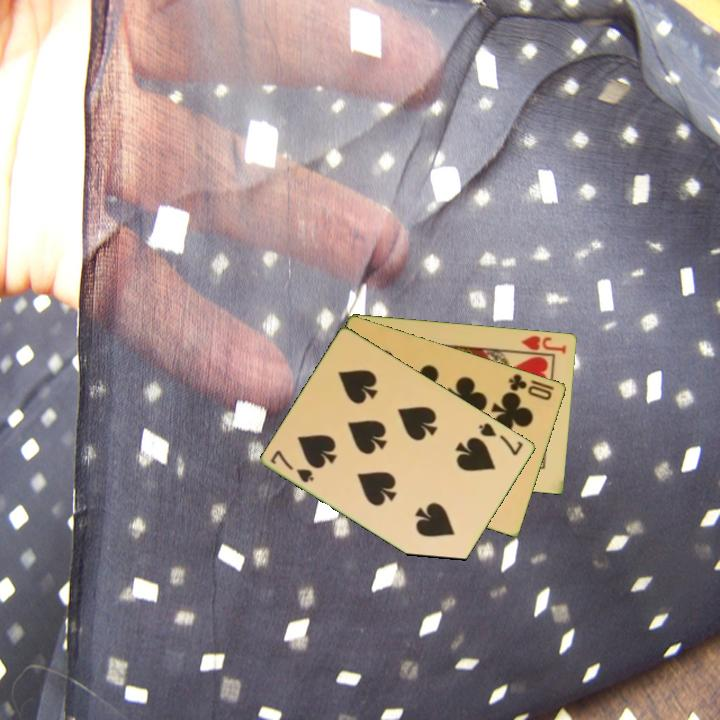10c: (505, 370, 557, 403)
7s: (475, 419, 526, 458), (267, 446, 318, 485)
Jh: (518, 332, 569, 356)
